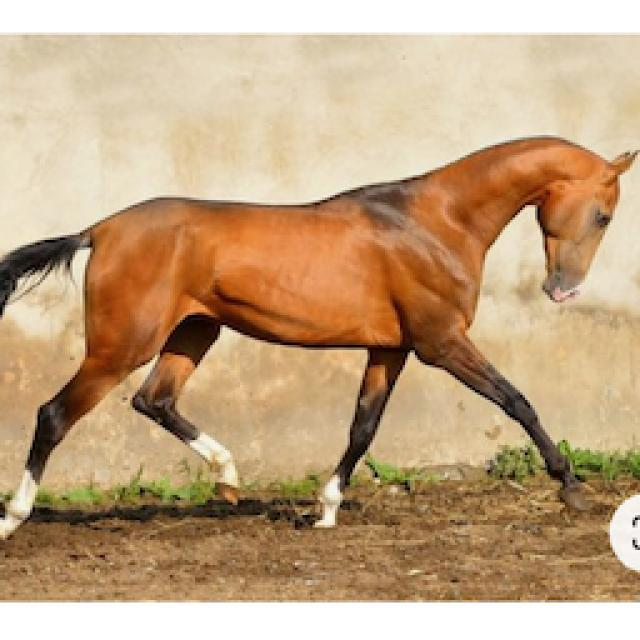Horse: (0, 127, 638, 545)
